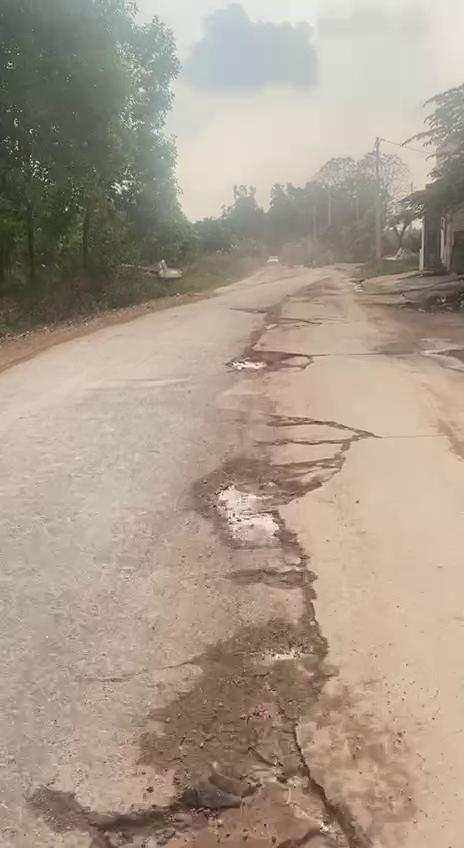pothole: (88, 678, 374, 848), (194, 456, 322, 598), (230, 348, 314, 378)
